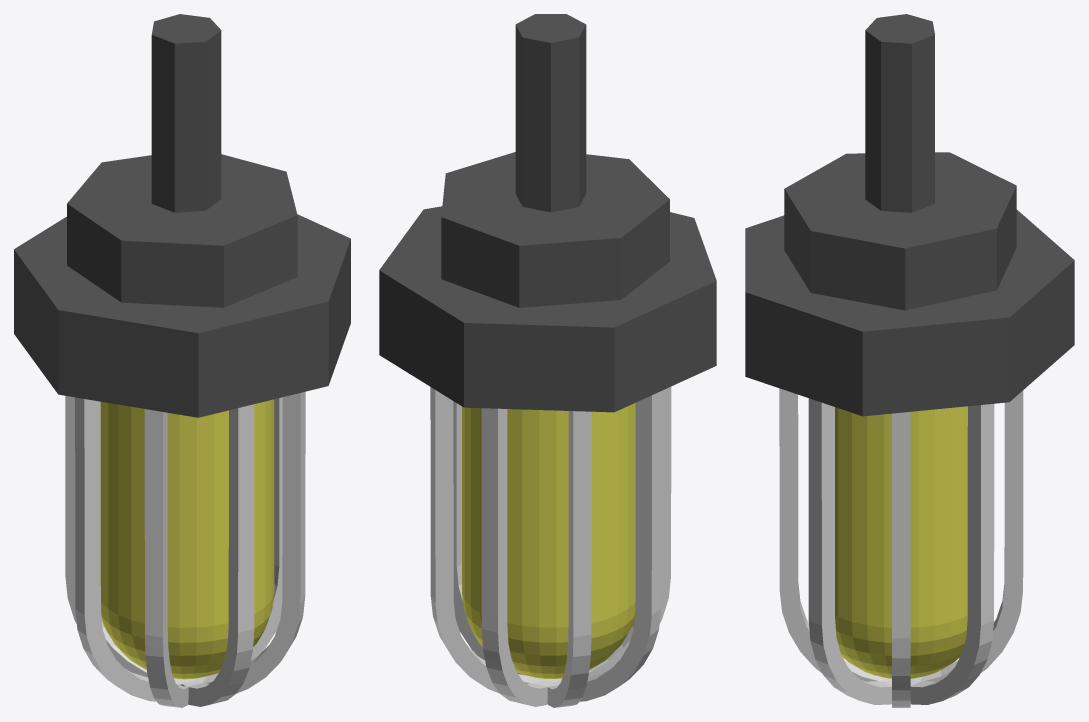
File: lamp.fbx
The picture shows the model from 3 angles, left to right: view 1: azimuth 30°, elevation 25°; view 2: azimuth 150°, elevation 25°; view 3: azimuth 270°, elevation 25°; orthographic projection.
Visible parts, largest first — view 1: Cylinder, Sphere.001, Sphere, Cylinder.001, Cylinder.002; view 2: Cylinder, Sphere.001, Sphere, Cylinder.001, Cylinder.002; view 3: Cylinder, Sphere.001, Sphere, Cylinder.001, Cylinder.002.
Part boxes in pixels (x1,y1,x2,y2): Cylinder: (14,214,350,417); Sphere.001: (65,391,305,707); Sphere: (100,399,274,679); Cylinder.001: (67,154,297,307); Cylinder.002: (151,14,221,212); Cylinder: (379,206,716,412); Sphere.001: (430,387,671,707); Sphere: (462,403,635,678); Cylinder.001: (441,152,669,307); Cylinder.002: (515,14,586,212); Cylinder: (745,209,1074,416); Sphere.001: (779,388,1023,707); Sphere: (835,406,967,678); Cylinder.001: (784,152,1016,310); Cylinder.002: (865,14,934,212).
Size of the model in its own units: 3.8 by 8.26 by 3.7.
